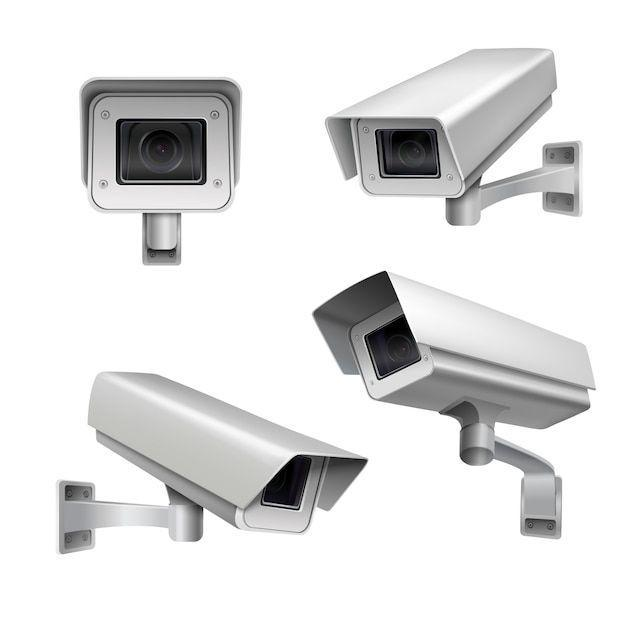------------------------------: (313, 263, 601, 544), (47, 359, 373, 585), (319, 37, 592, 232), (71, 69, 250, 274)
